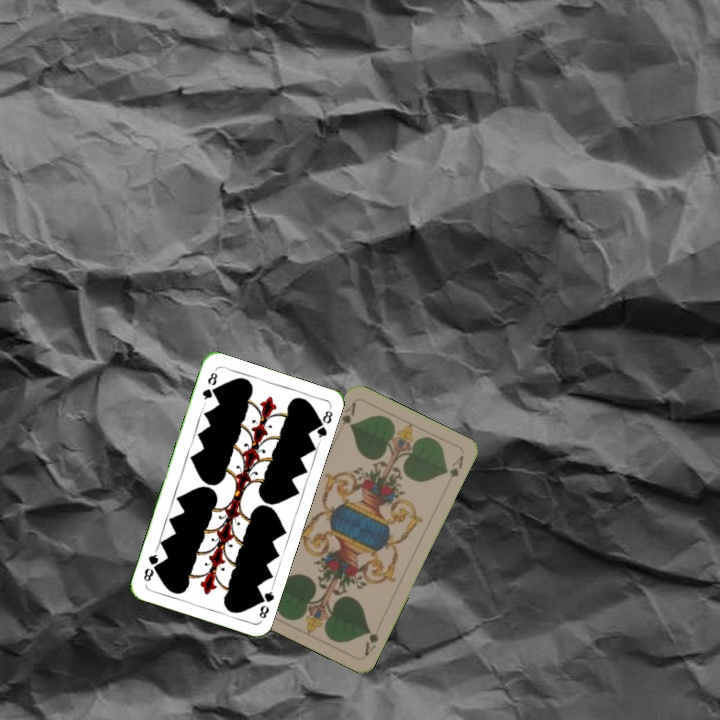G8: (253, 583, 277, 623), (198, 368, 220, 406)
GA: (337, 398, 359, 429), (360, 626, 381, 658)
